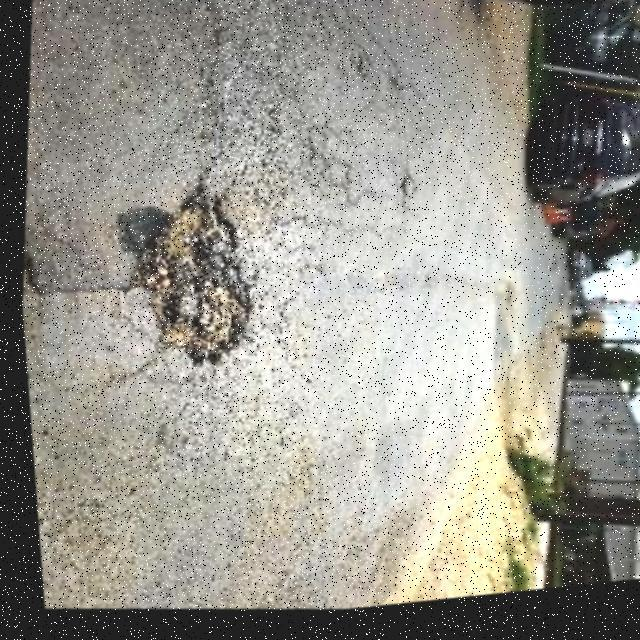pothole: (108, 180, 266, 387)
